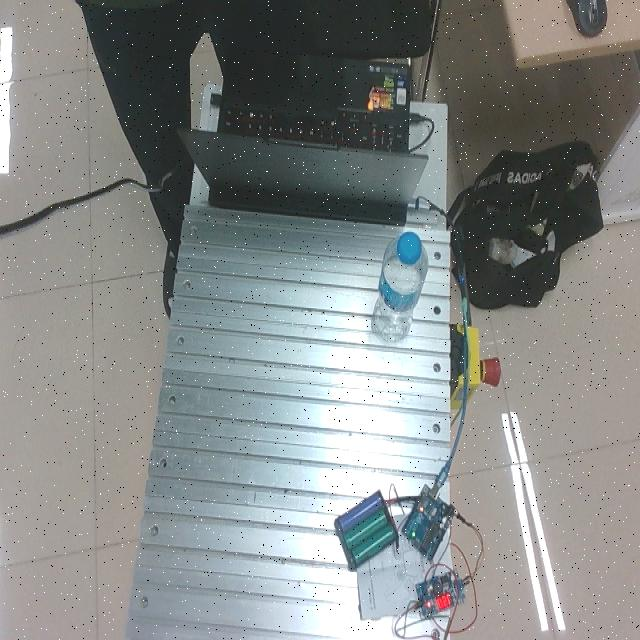lavie: (372, 232, 429, 343)
